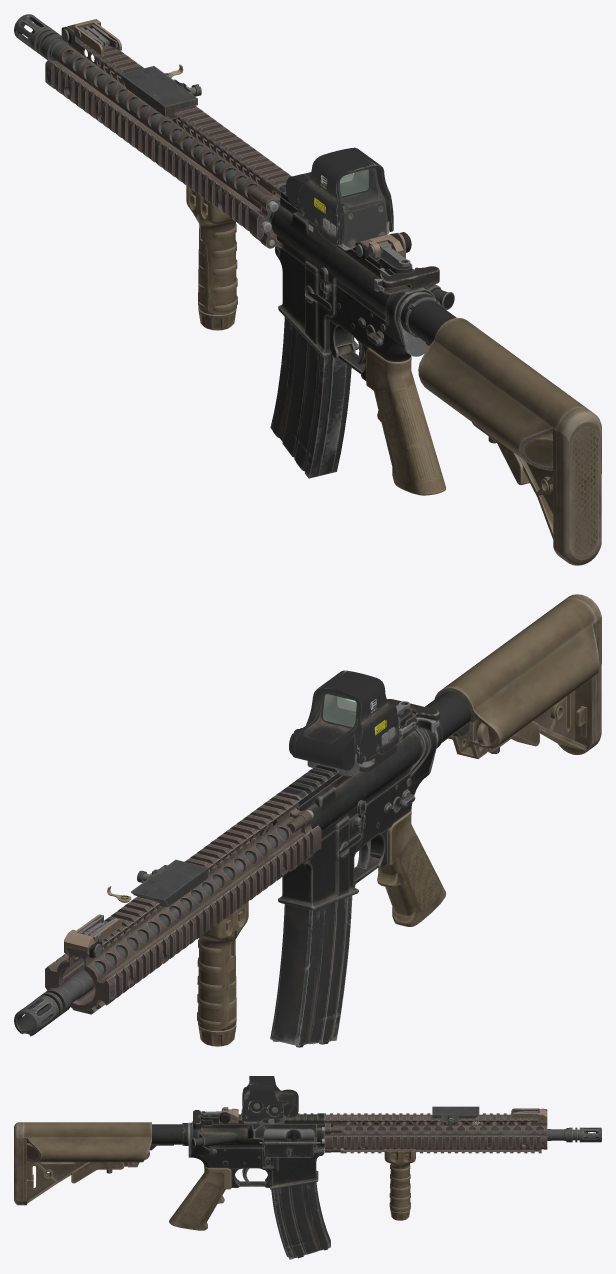
Rendered from m4a1-A47SCBML.glb.
The picture shows the model from 3 angles, top to bottom: view 1: azimuth 30°, elevation 25°; view 2: azimuth 150°, elevation 25°; view 3: azimuth 270°, elevation 25°; orthographic projection. The views are drawn at different scales.
Visible parts, largest first — view 1: body, mag; view 2: body, mag; view 3: body, mag.
Part boxes in pixels (x1,y1,x2,y2): body: [14, 14, 601, 565]; mag: [270, 317, 351, 478]; body: [14, 594, 601, 1046]; mag: [270, 896, 352, 1047]; body: [14, 1076, 601, 1230]; mag: [271, 1182, 330, 1259].
Bounding box in the file's own units: 0.0714 × 0.278 × 0.84.
5 materials, 5 textured.
